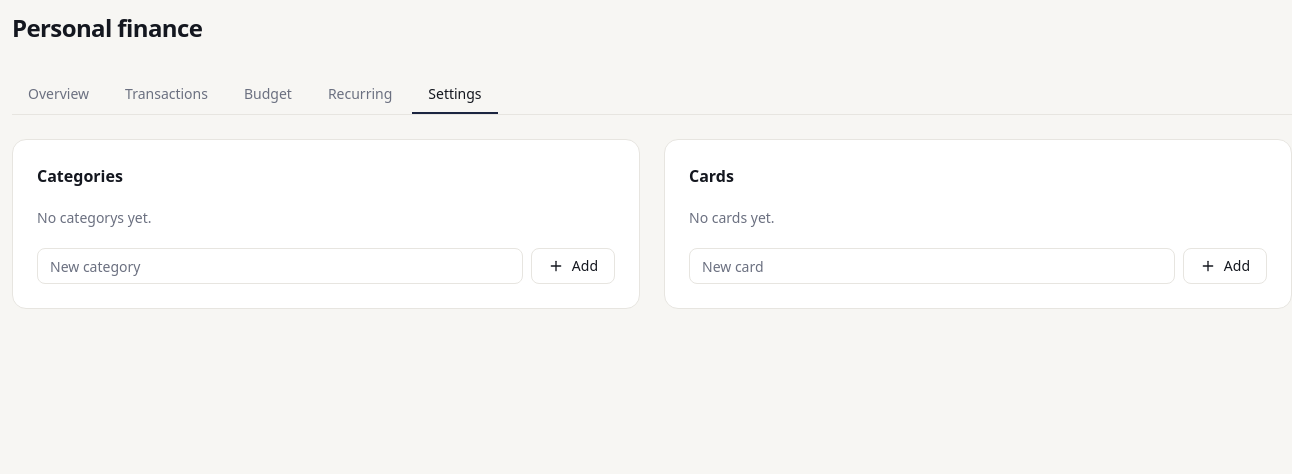
Test: FinancePage › switches tabs
Expected: the heading "Categories" is shown, x1=37 y1=165 x2=123 y2=187
Click the tab "Budget". click: [268, 95]
box: x1=228 y1=76 x2=308 y2=114
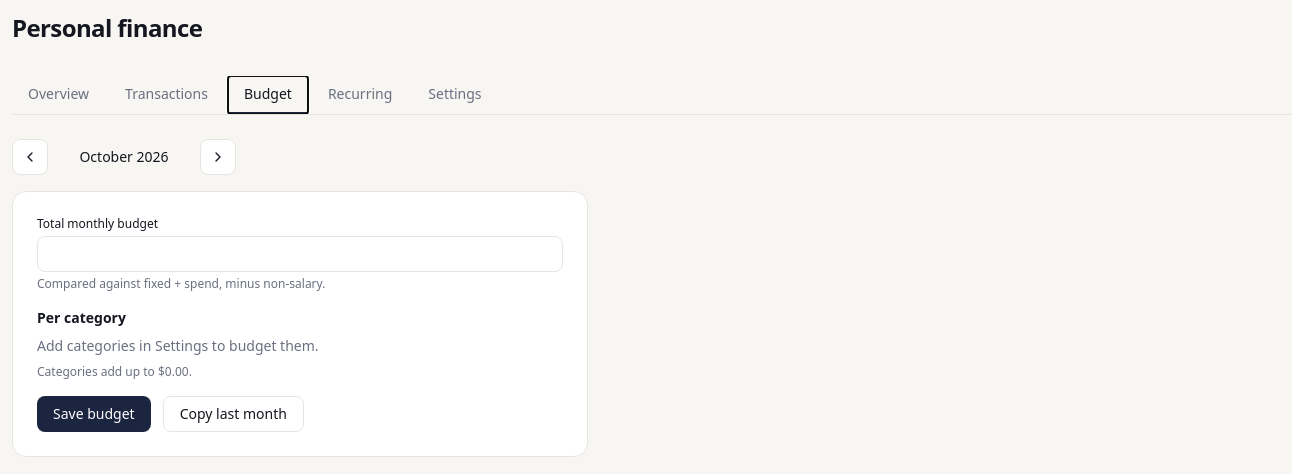
Expected: the text "Total monthly budget" is shown, x1=37 y1=216 x2=158 y2=232
